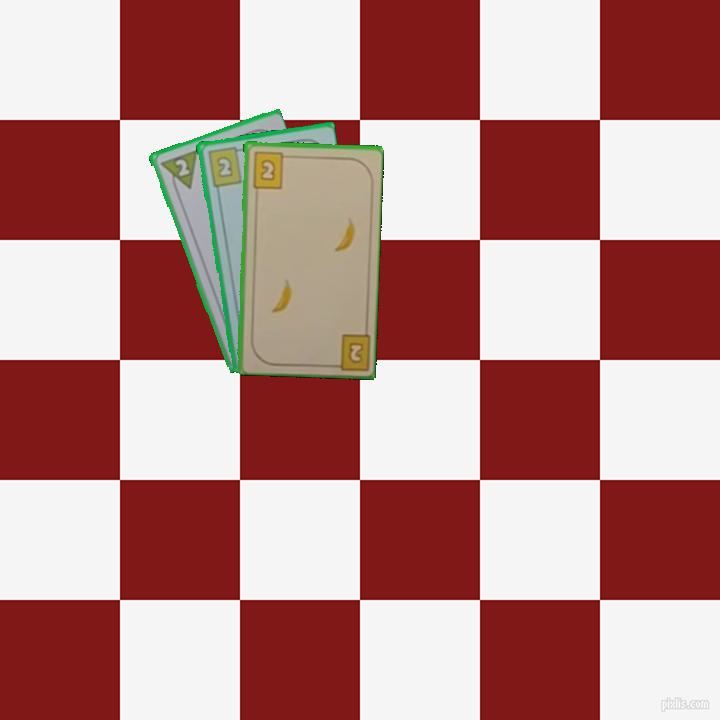2b: (204, 143, 246, 189), (326, 329, 371, 371), (249, 148, 292, 191)
2p: (156, 146, 200, 196)
